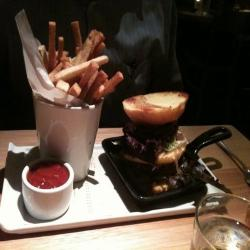burger: (115, 88, 189, 177)
fries: (27, 27, 126, 110)
ketchup: (13, 155, 80, 204)
